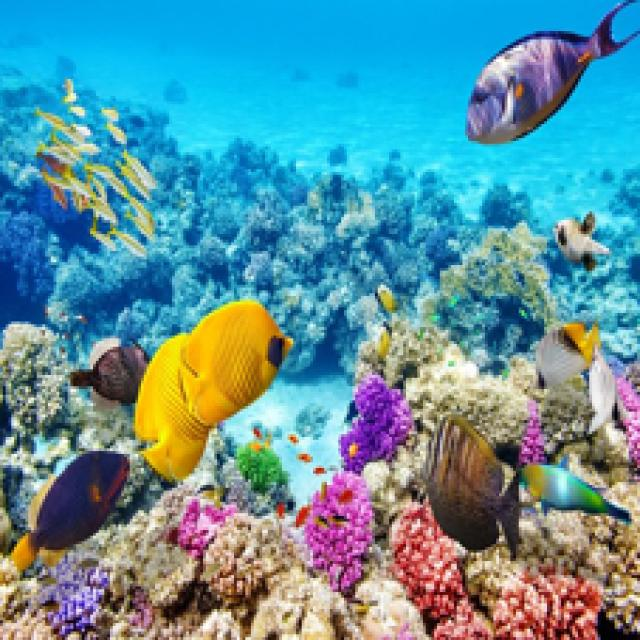Healthy: (339, 314, 542, 477), (390, 503, 599, 638), (91, 489, 193, 602), (201, 514, 305, 604), (1, 322, 66, 446), (311, 472, 370, 590), (40, 568, 108, 635), (359, 573, 427, 638), (179, 497, 235, 556), (540, 379, 587, 449), (238, 444, 286, 489)
